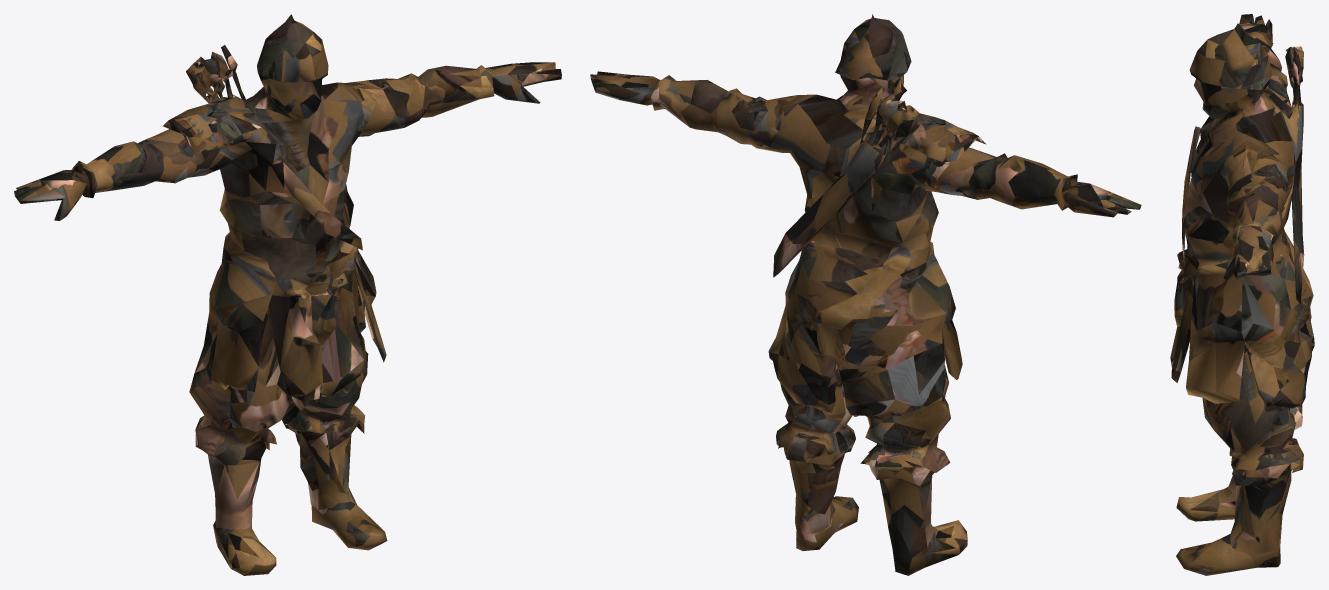
Rendered from mongolguerrerofrente.fbx.
3 views of the same model, side by side, from view 1: azimuth 30°, elevation 25°; view 2: azimuth 150°, elevation 25°; view 3: azimuth 270°, elevation 25° (orthographic). The views are drawn at different scales.
Parts seen in each view (by area): view 1: temp; view 2: temp; view 3: temp.
Part boxes in pixels (left/top/right/bottom): temp: left=14, top=14, right=561, bottom=575; temp: left=590, top=14, right=1141, bottom=575; temp: left=1170, top=14, right=1314, bottom=575.
Size of the model in its own units: 198 by 186 by 46.76.
